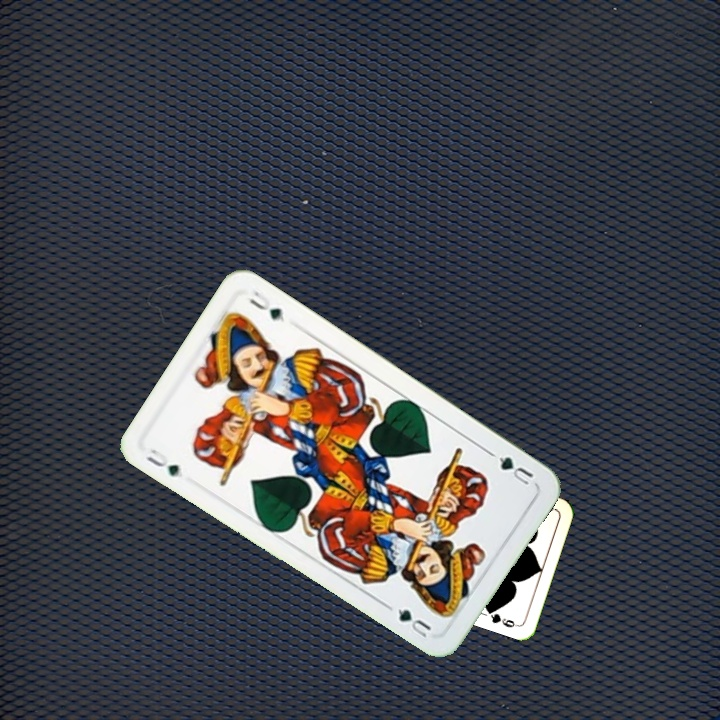GU: (486, 448, 536, 488), (141, 444, 182, 480)
